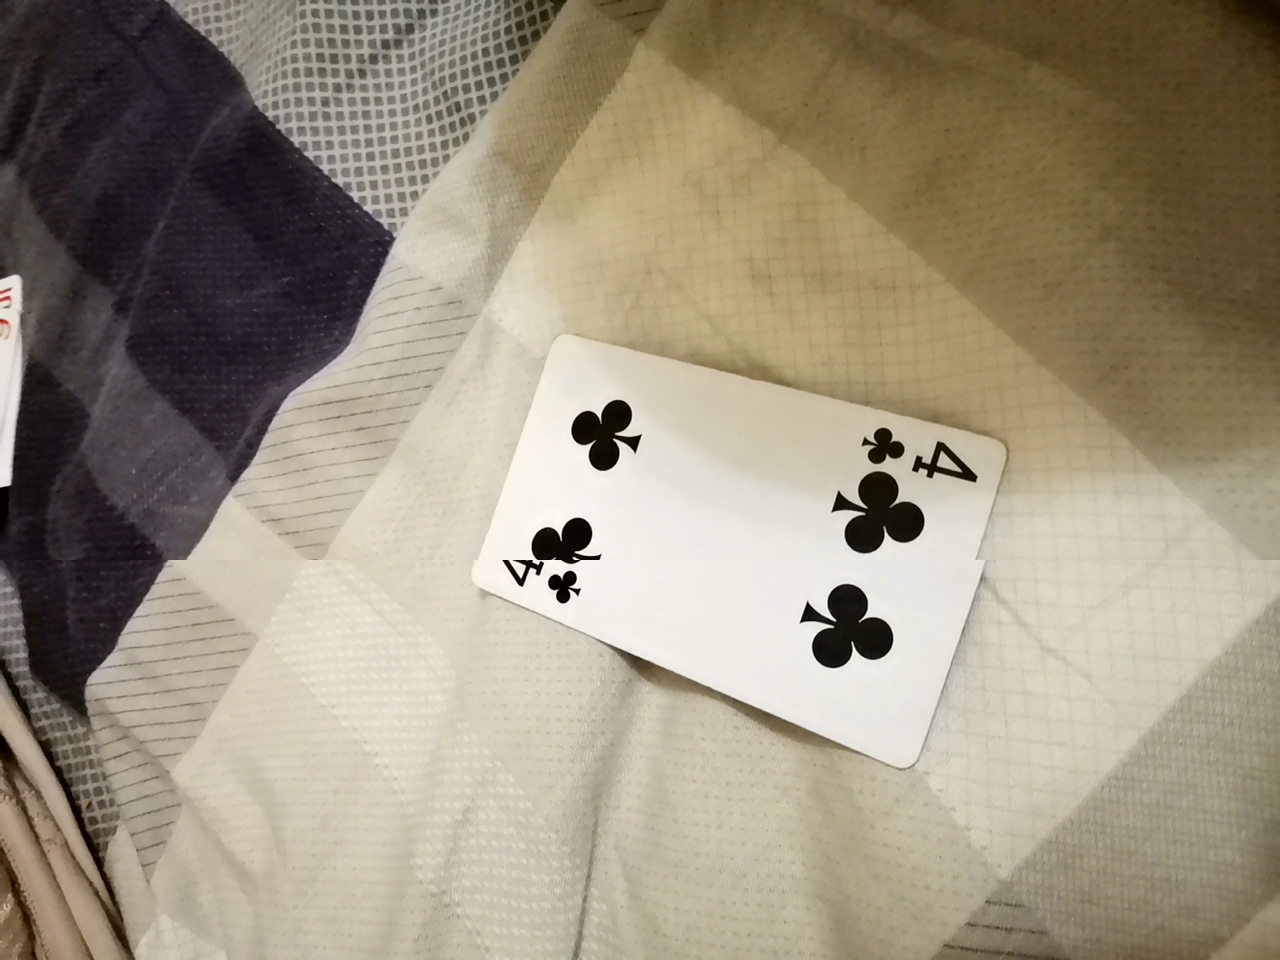mh 4: (480, 337, 1011, 801)
